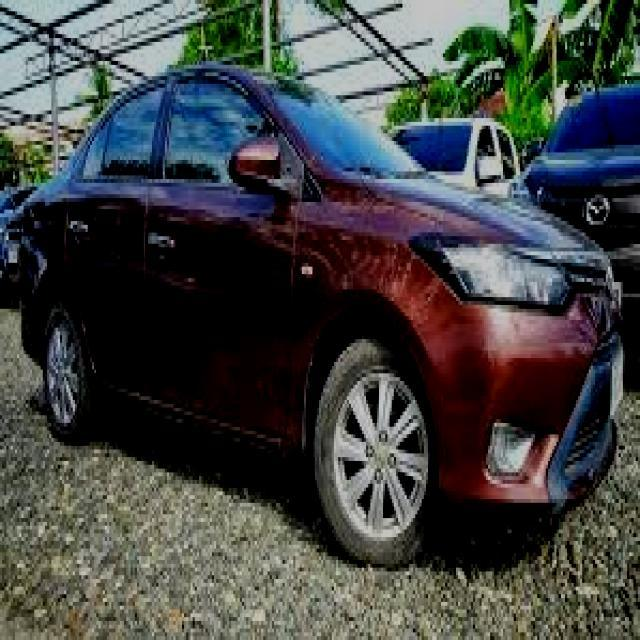ToyotaVios: (12, 60, 626, 567)
